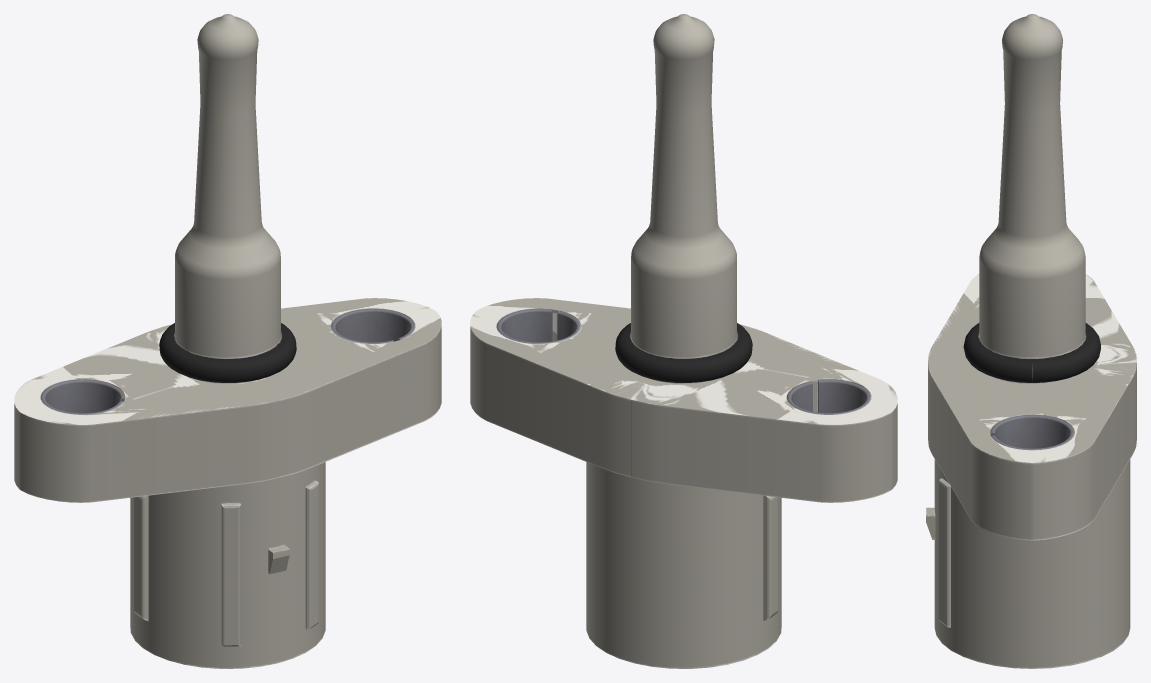
Rendered from sensorIAT.glb.
3 renders of one model, left to right at view 1: azimuth 30°, elevation 25°; view 2: azimuth 150°, elevation 25°; view 3: azimuth 270°, elevation 25°, orthographic.
Visible parts, largest first — view 1: sensorIntakeAirTemperature; view 2: sensorIntakeAirTemperature; view 3: sensorIntakeAirTemperature.
Boxes of the visible parts, box(x1,y1,x2,y2) form: sensorIntakeAirTemperature: box(14, 14, 441, 668); sensorIntakeAirTemperature: box(470, 14, 897, 668); sensorIntakeAirTemperature: box(926, 14, 1136, 668).
Size of the model in its own units: 1.7 by 2.39 by 0.7467.
1 material, 1 textured.
